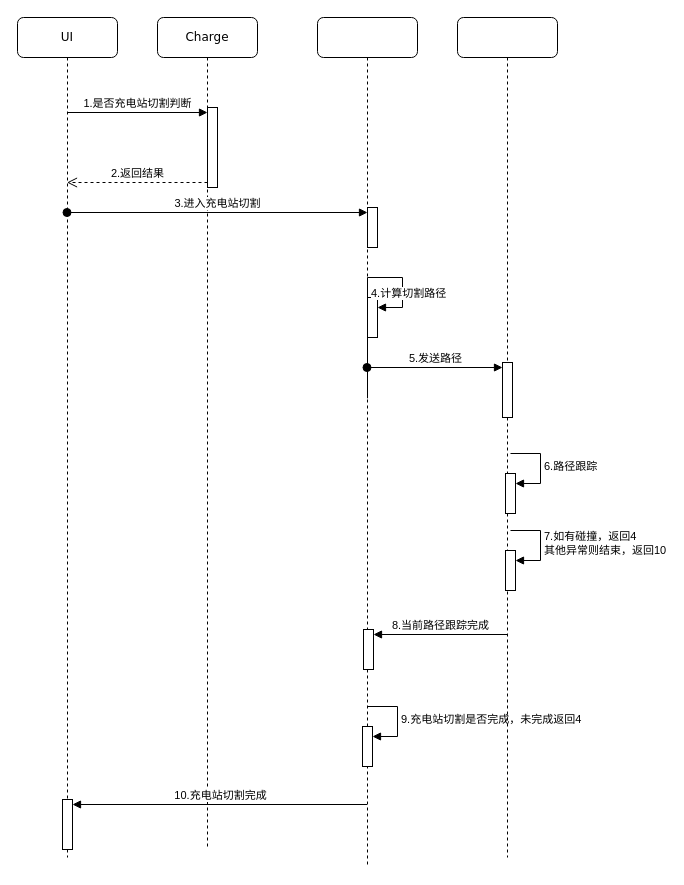
Some shapes in this 684 by 885 pixel diagram are drawn without their labels. Each missing label, with the box of its shape:
Control: (456, 16, 558, 858)
Planning: (316, 16, 418, 868)
